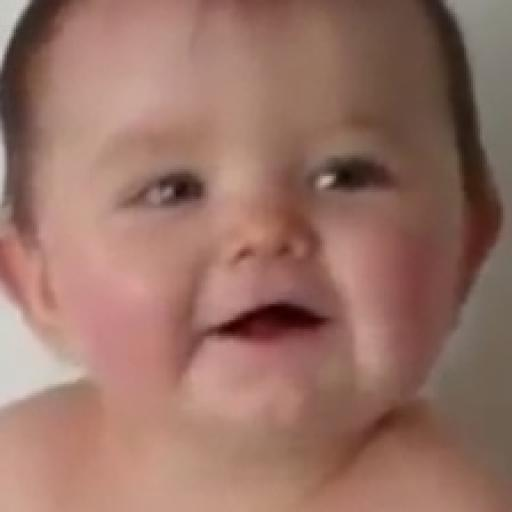Autism: (33, 30, 512, 504)
